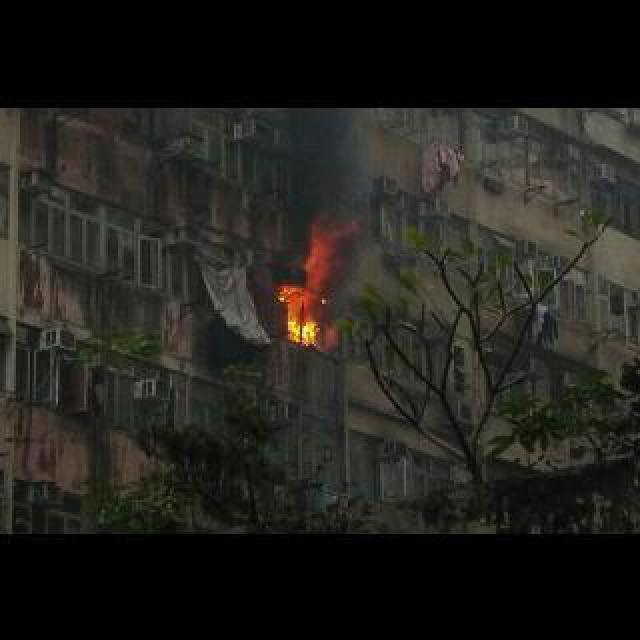Fire: (280, 282, 322, 342)
Smoke: (280, 104, 372, 290)
